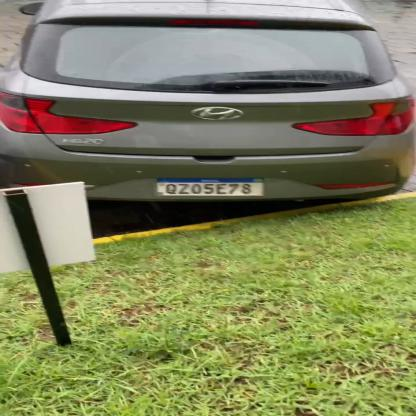Plate: (150, 172, 272, 200)
